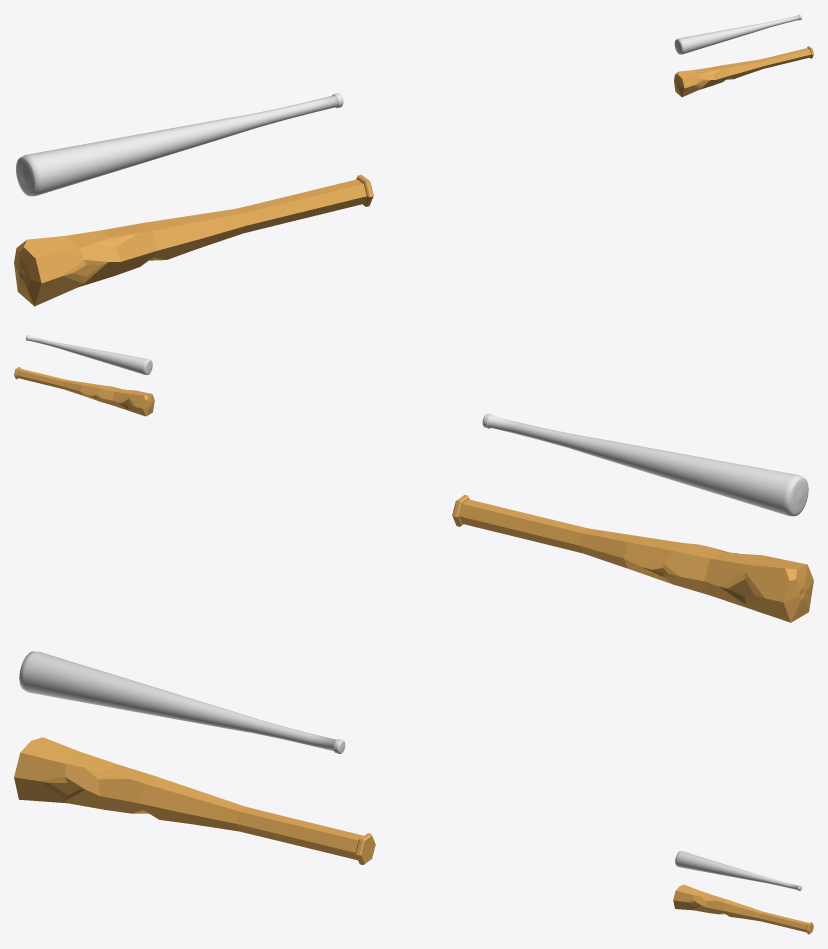
Rendered from Bat and Club.fbx.
3 views of the same model, one above another, from view 1: azimuth 30°, elevation 25°; view 2: azimuth 150°, elevation 25°; view 3: azimuth 330°, elevation 25° (orthographic).
Parts seen in each view (by area): view 1: Sphere.001, Sphere, Sphere.003, Sphere.002; view 2: Sphere.001, Sphere, Sphere.003, Sphere.002; view 3: Sphere.001, Sphere, Sphere.003, Sphere.002.
Part boxes in pixels (left/top/right/bottom): Sphere.001: left=14, top=174, right=373, bottom=306; Sphere: left=16, top=93, right=343, bottom=196; Sphere.003: left=674, top=46, right=813, bottom=97; Sphere.002: left=674, top=14, right=801, bottom=54; Sphere.001: left=452, top=495, right=813, bottom=622; Sphere: left=482, top=413, right=808, bottom=516; Sphere.003: left=14, top=367, right=154, bottom=416; Sphere.002: left=26, top=335, right=152, bottom=374; Sphere.001: left=14, top=737, right=375, bottom=864; Sphere: left=19, top=651, right=345, bottom=753; Sphere.003: left=673, top=884, right=813, bottom=934; Sphere.002: left=675, top=851, right=801, bottom=890.
Bounding box in the file's own units: 4207 × 723 × 273.
